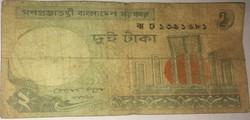2 taka: (2, 1, 247, 112)
